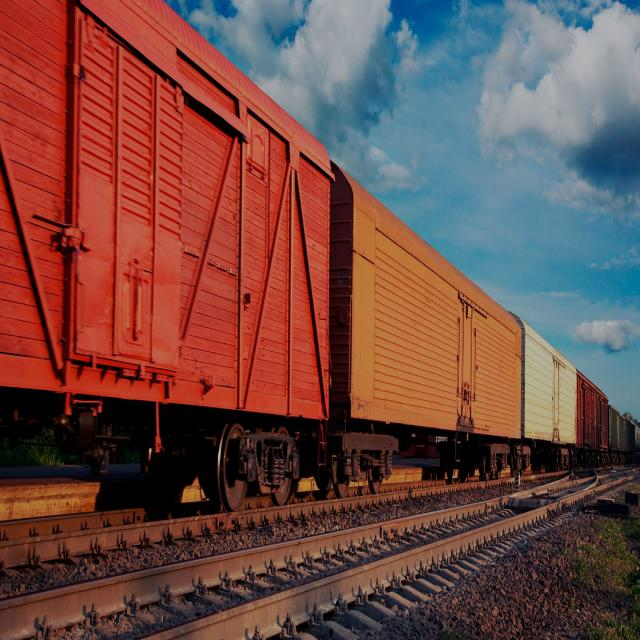boxcar: (0, 0, 332, 510), (330, 155, 522, 488), (521, 320, 577, 474)
